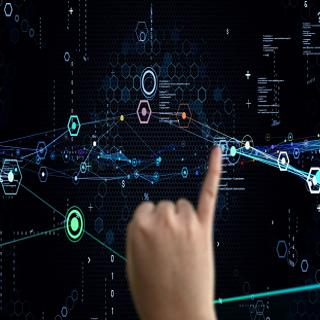Fine: (114, 141, 233, 314)
